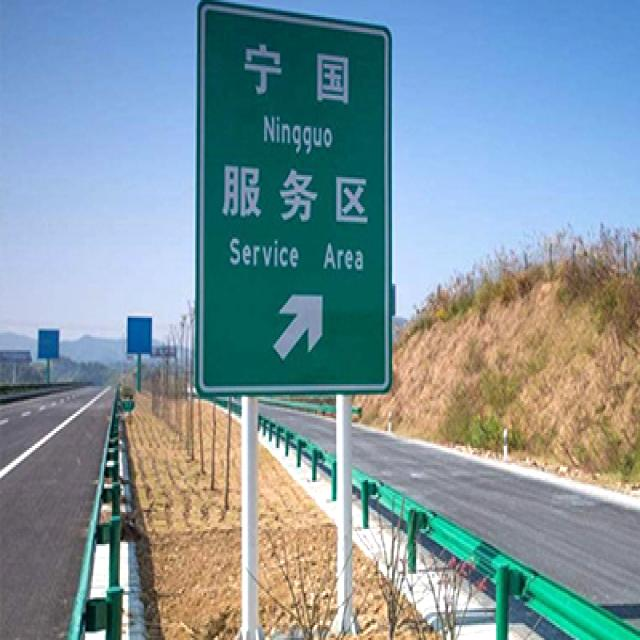Guard rail: (352, 471, 640, 639), (68, 393, 120, 639), (260, 415, 336, 482)
